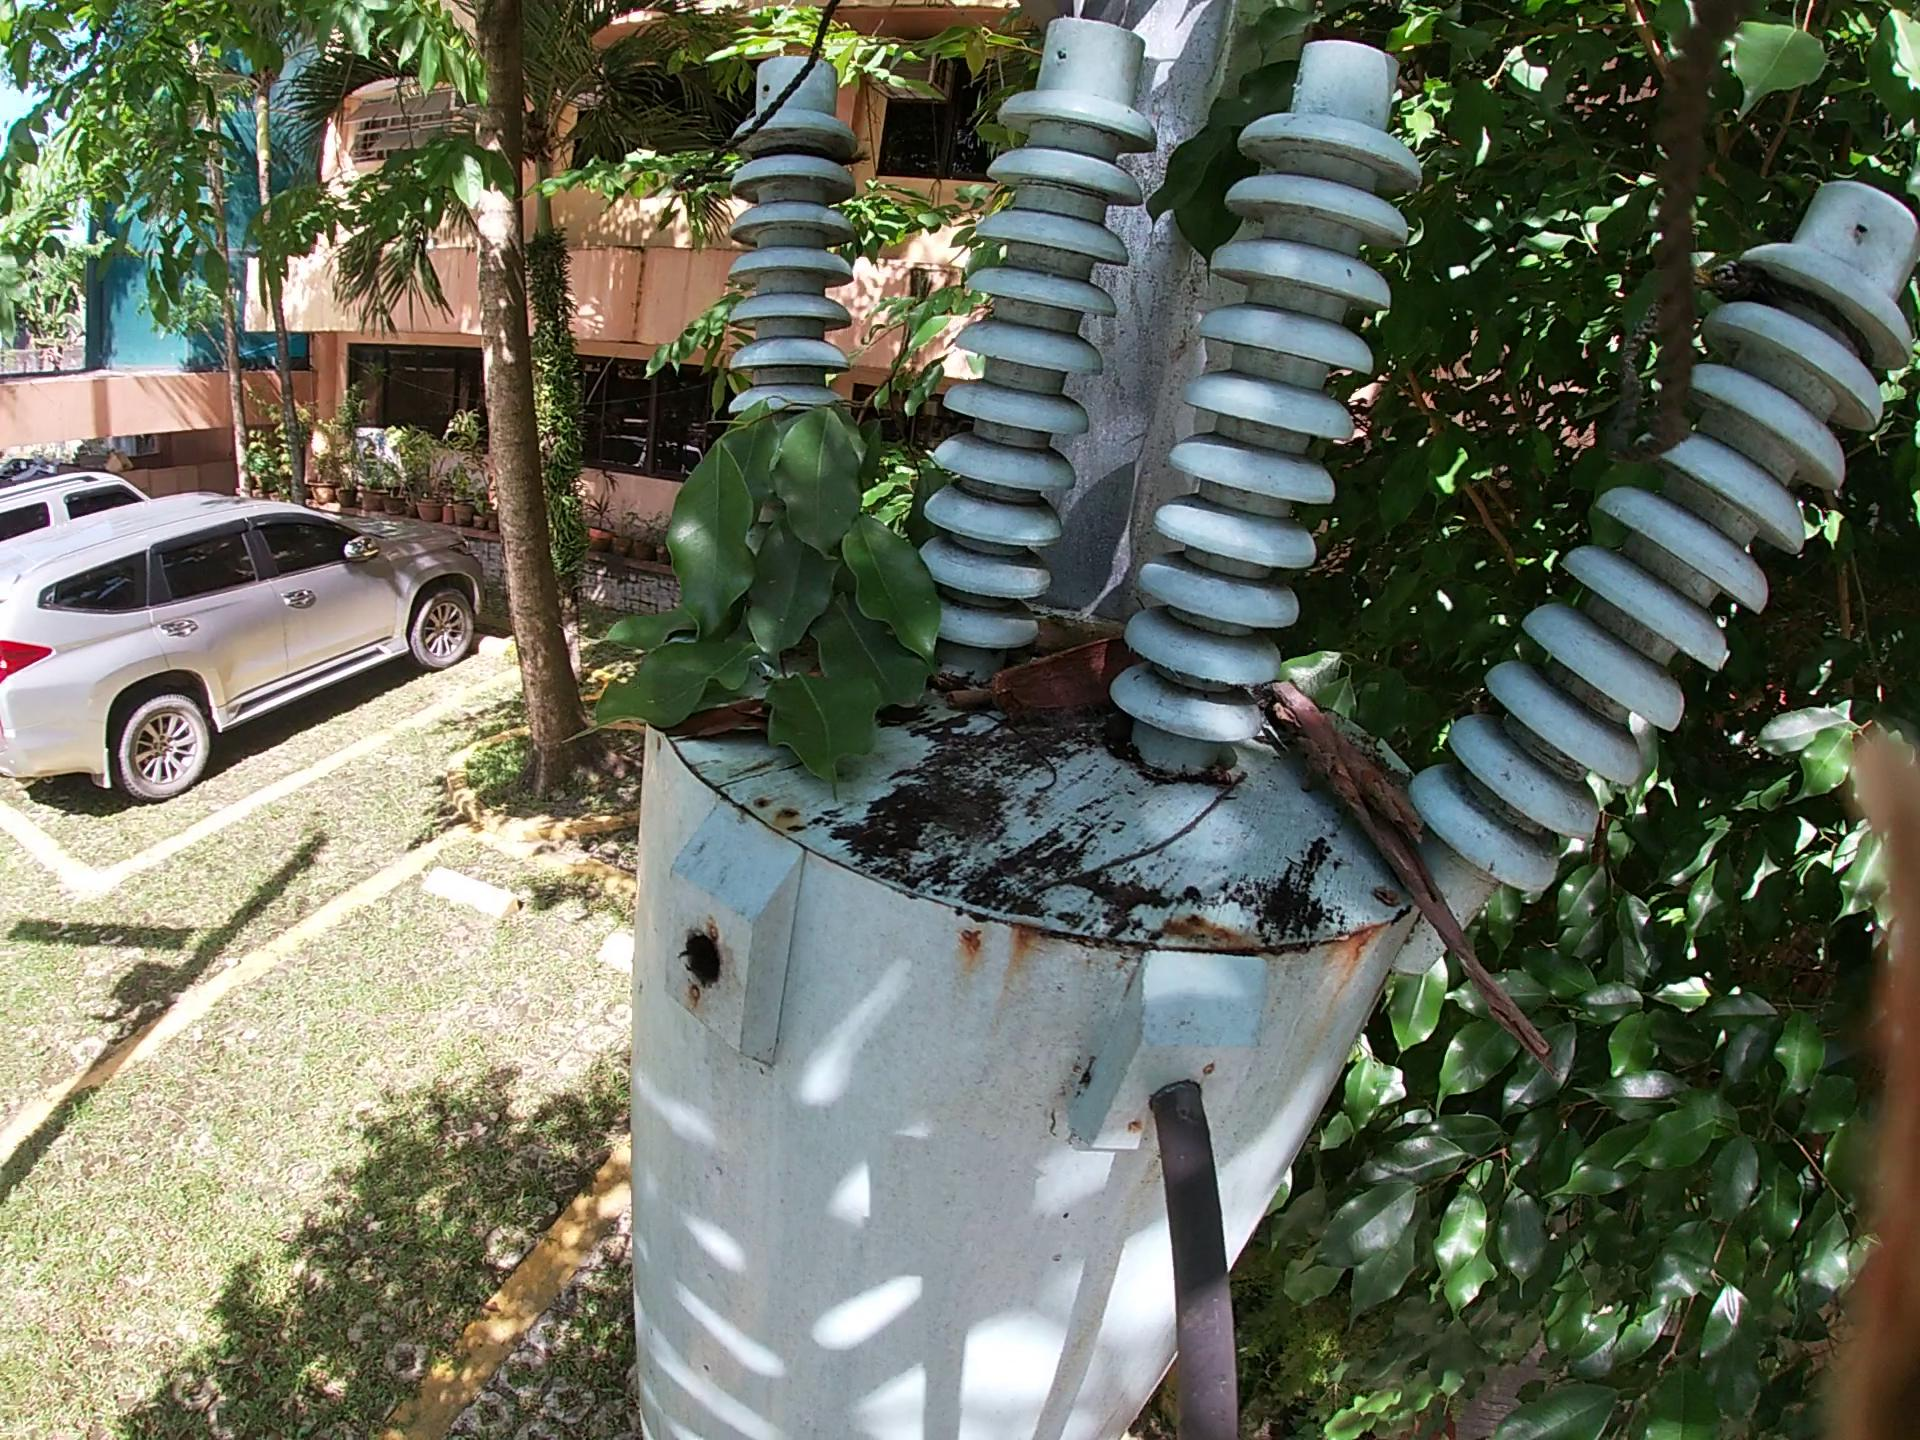branch with leaves: (579, 309, 945, 815)
mahogany fruit: (983, 632, 1150, 714), (679, 693, 791, 749)
tree branch: (1256, 664, 1566, 1077), (1017, 777, 1250, 908), (1030, 605, 1169, 658), (1008, 718, 1069, 806), (937, 675, 998, 706)
